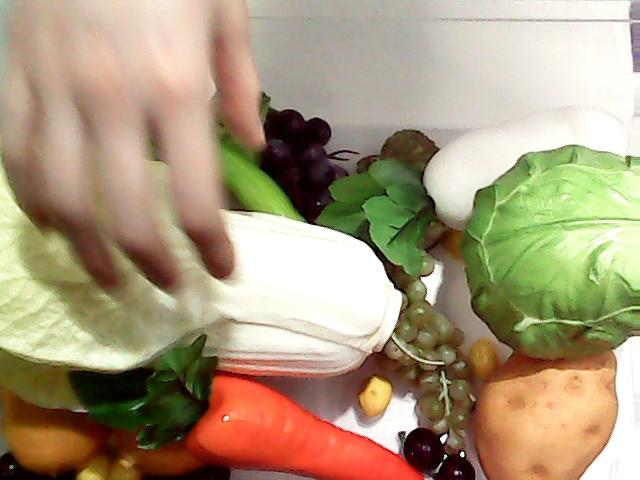cabbage: (452, 140, 640, 366)
carrot: (70, 335, 426, 480)
grape: (384, 266, 470, 476), (247, 94, 337, 225)
lemon: (106, 425, 210, 473)
mango: (0, 391, 92, 472)
napa cabbage: (0, 145, 386, 371)
pepper: (158, 132, 306, 232)
potato: (472, 342, 618, 480)
radish: (316, 106, 630, 286)
